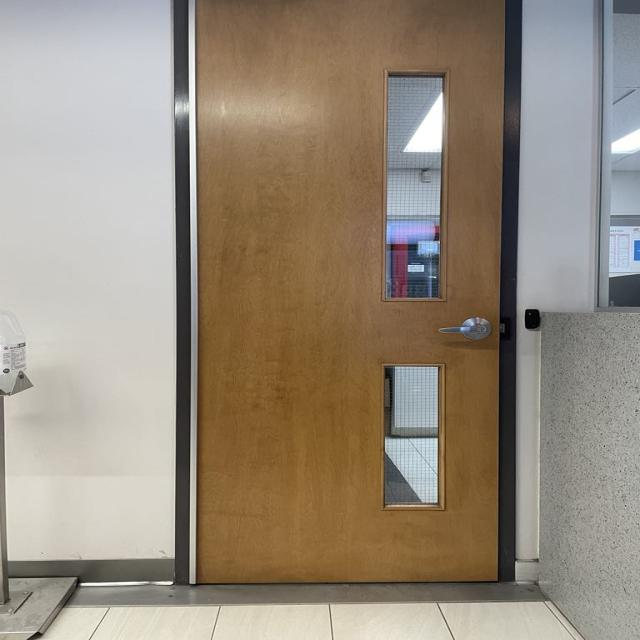door-handle: (439, 318, 492, 340)
